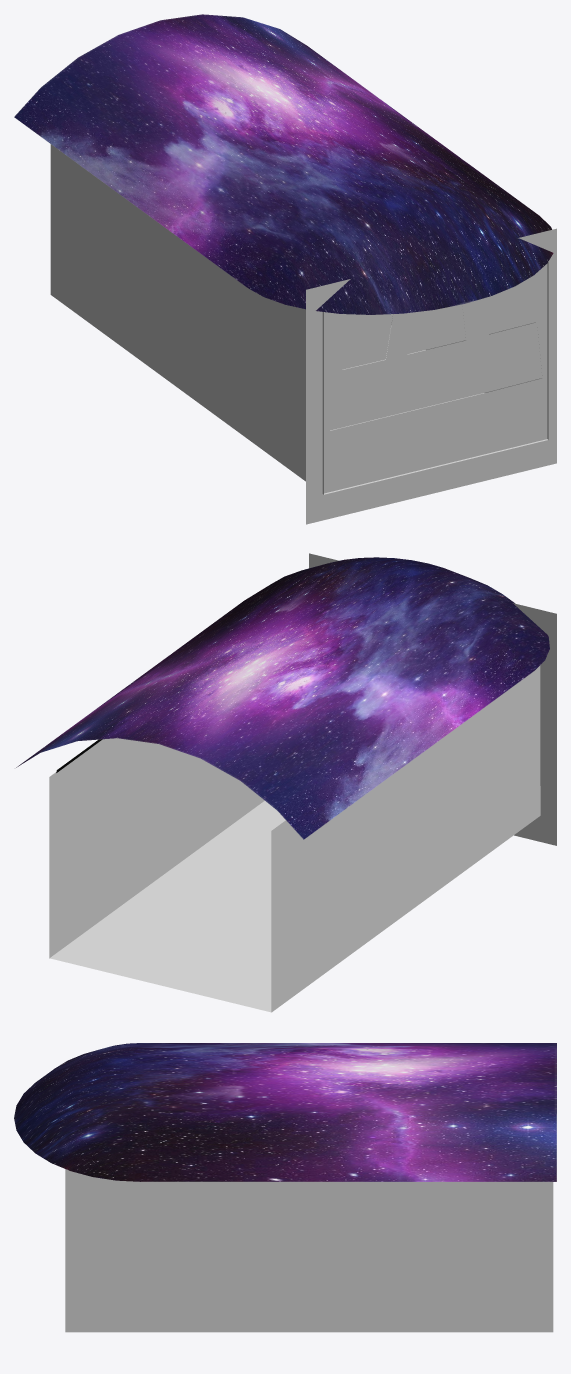
File: CONTROLODEFF.fbx
The picture shows the model from 3 angles, top to bottom: view 1: azimuth 30°, elevation 25°; view 2: azimuth 150°, elevation 25°; view 3: azimuth 270°, elevation 25°; orthographic projection. The views are drawn at different scales.
Parts seen in each view (by area): view 1: Sci-Fi Space Station.002, Cube.003, Sci-Fi Space Station.005, VENTANA, Cube.001, Cube; view 2: Sci-Fi Space Station.002, Cube.003, Cube.002, Cube, Sci-Fi Space Station.005, Cube.001, Cube.004; view 3: Sci-Fi Space Station.002, Cube.002, Cube.004.
Part boxes in pixels (bbox=[...]): Sci-Fi Space Station.002: bbox=[14, 14, 553, 314]; Cube.003: bbox=[50, 144, 323, 494]; Sci-Fi Space Station.005: bbox=[306, 228, 556, 524]; VENTANA: bbox=[330, 284, 542, 430]; Cube.001: bbox=[50, 212, 323, 418]; Cube: bbox=[324, 326, 547, 494]; Sci-Fi Space Station.002: bbox=[16, 557, 549, 839]; Cube.003: bbox=[271, 665, 540, 1012]; Cube.002: bbox=[49, 738, 264, 958]; Cube: bbox=[50, 801, 285, 1012]; Sci-Fi Space Station.005: bbox=[309, 553, 556, 845]; Cube.001: bbox=[271, 734, 540, 937]; Cube.004: bbox=[49, 762, 211, 883]; Sci-Fi Space Station.002: bbox=[14, 1043, 556, 1181]; Cube.002: bbox=[65, 1169, 553, 1332]; Cube.004: bbox=[65, 1258, 553, 1264].
Bounding box in the file's own units: 7833 × 6955 × 14076.
